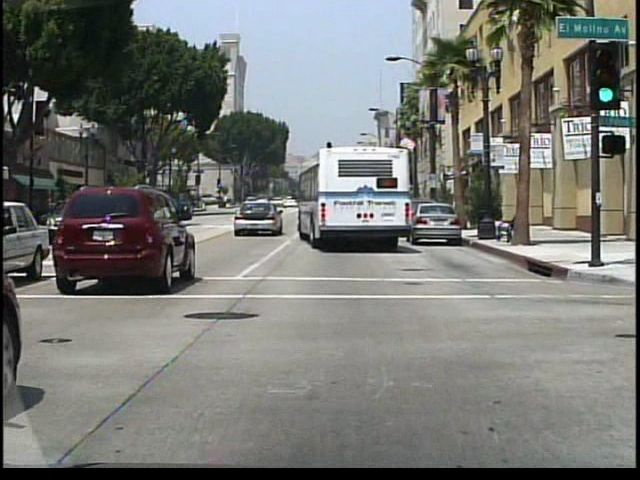person: (462, 190, 475, 228)
